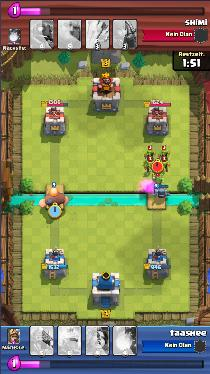ally_giant: (39, 189, 68, 211)
enemy_goblin: (160, 161, 170, 173), (144, 149, 155, 159), (145, 162, 155, 172), (159, 149, 169, 159)
enemy_mini_pekka: (153, 185, 169, 197)
enemy_spear_goblin: (152, 175, 164, 185)
